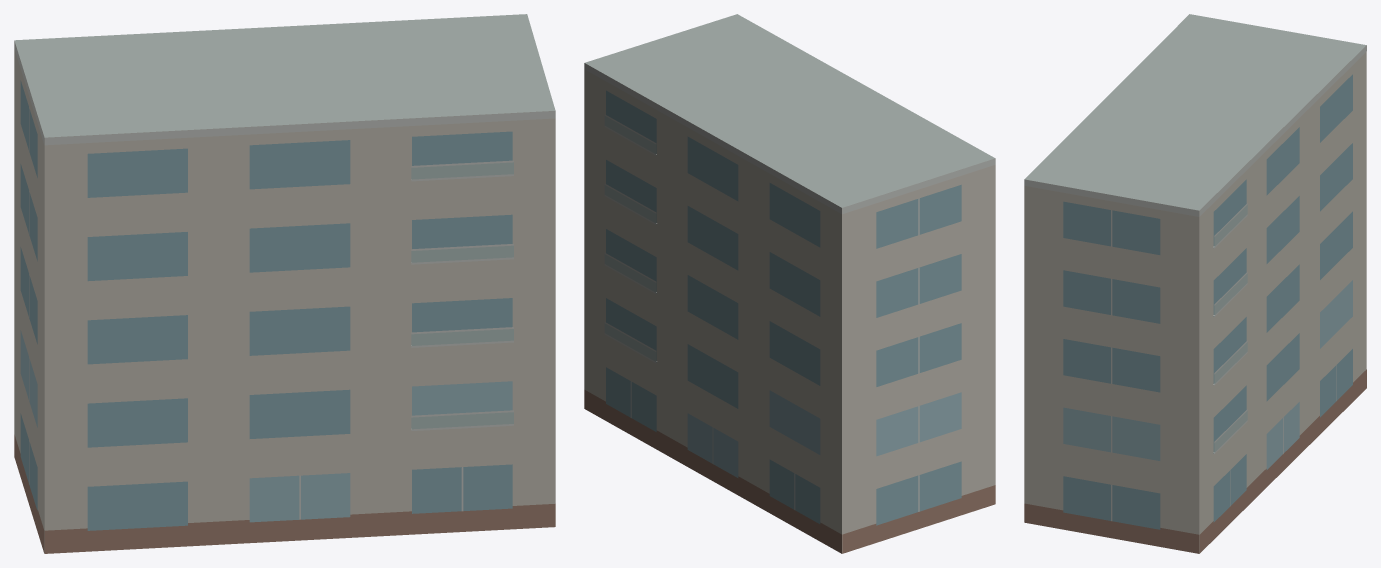
File: survey-upis-33045035.glb
3 views of the same model, side by side, from view 1: azimuth 30°, elevation 25°; view 2: azimuth 150°, elevation 25°; view 3: azimuth 270°, elevation 25° (orthographic). The views are drawn at different scales.
Parts seen in each view (by area): view 1: survey-upis-33045035.tmp; view 2: survey-upis-33045035.tmp; view 3: survey-upis-33045035.tmp.
Boxes of the visible parts, x1=… form: survey-upis-33045035.tmp: x1=14, y1=14, x2=555, y2=553; survey-upis-33045035.tmp: x1=584, y1=14, x2=995, y2=553; survey-upis-33045035.tmp: x1=1024, y1=14, x2=1366, y2=553.
Size of the model in its own units: 16.23 by 13.2 by 11.94.
